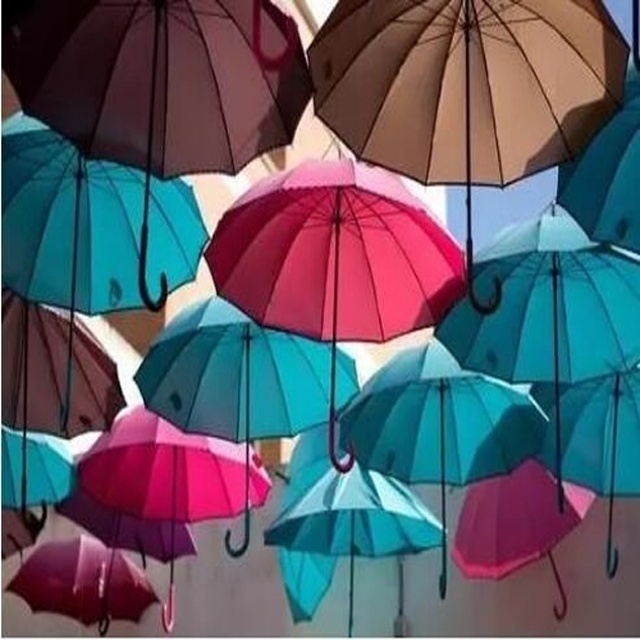umbrella: (308, 1, 632, 320), (1, 1, 317, 313), (203, 155, 467, 477), (1, 110, 213, 437), (433, 202, 640, 516), (131, 287, 360, 562), (338, 333, 552, 604), (76, 398, 276, 640), (264, 444, 449, 640), (524, 354, 640, 581), (454, 460, 604, 622), (1, 284, 128, 441), (1, 531, 162, 640), (555, 62, 640, 258), (1, 425, 78, 515)
